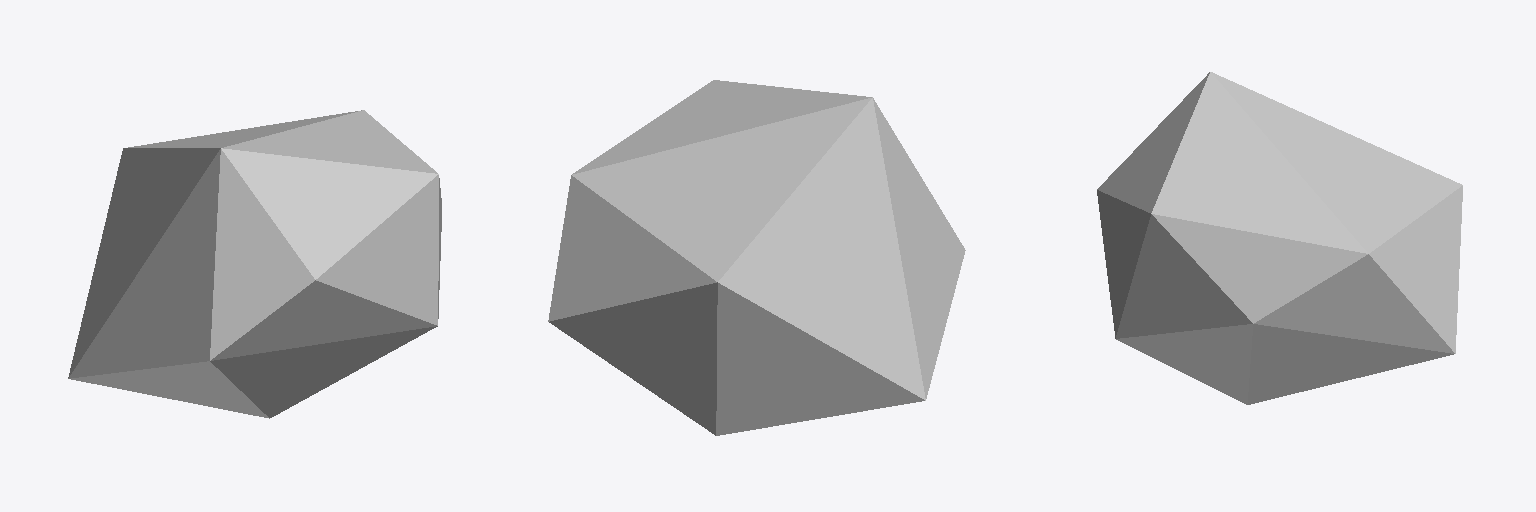
The model's file is quit.obj.
The picture shows the model from 3 angles: view 1: azimuth 30°, elevation 25°; view 2: azimuth 150°, elevation 25°; view 3: azimuth 270°, elevation 25°; orthographic projection.
Parts seen in each view (by area): view 1: Cube; view 2: Cube; view 3: Cube.
Boxes of the visible parts, x1=… form: Cube: x1=68, y1=110, x2=441, y2=418; Cube: x1=548, y1=80, x2=965, y2=435; Cube: x1=1097, y1=72, x2=1462, y2=404.
Size of the model in its own units: 1.3 by 1.08 by 1.2.